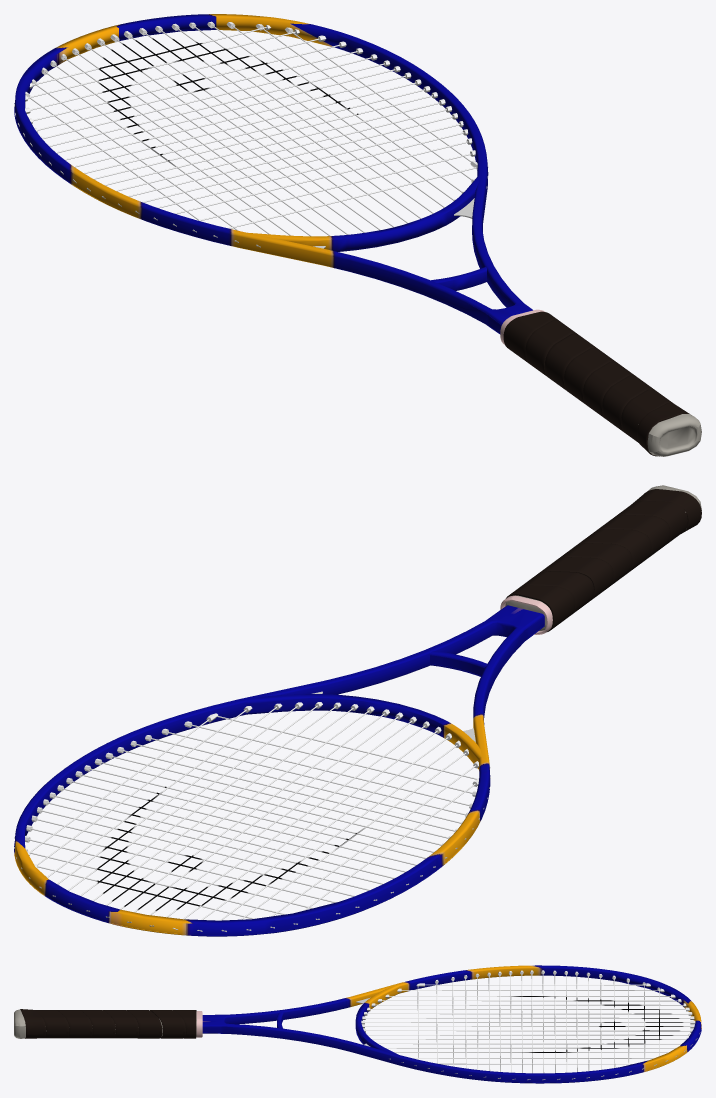
The model's file is tennisracquet.obj.
3 views of the same model, one above another, from view 1: azimuth 30°, elevation 25°; view 2: azimuth 150°, elevation 25°; view 3: azimuth 270°, elevation 25° (orthographic). The views are drawn at different scales.
Parts seen in each view (by area): view 1: Arch27_001, Arch27_000, Arch27_004, Arch27_005; view 2: Arch27_001, Arch27_000, Arch27_004; view 3: Arch27_001, Arch27_000, Arch27_004, Arch27_005.
Boxes of the visible parts, left/top/right/bottom form: Arch27_001: left=14, top=14, right=532, bottom=334; Arch27_000: left=25, top=21, right=477, bottom=236; Arch27_004: left=503, top=311, right=689, bottom=456; Arch27_005: left=638, top=414, right=701, bottom=456; Arch27_001: left=14, top=605, right=544, bottom=936; Arch27_000: left=25, top=702, right=478, bottom=920; Arch27_004: left=506, top=489, right=701, bottom=631; Arch27_001: left=202, top=965, right=701, bottom=1083; Arch27_000: left=361, top=970, right=695, bottom=1073; Arch27_004: left=20, top=1009, right=196, bottom=1038; Arch27_005: left=14, top=1009, right=196, bottom=1038.
Size of the model in its own units: 10.4 by 0.9834 by 27.26.
